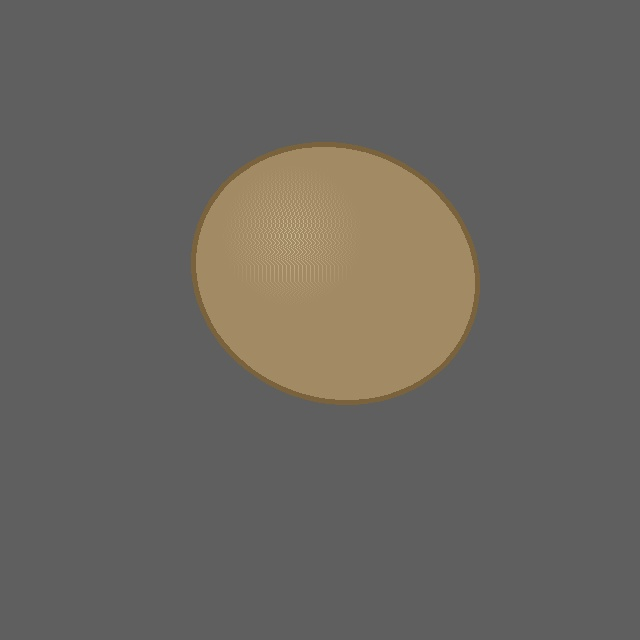lens: (193, 145, 477, 401)
